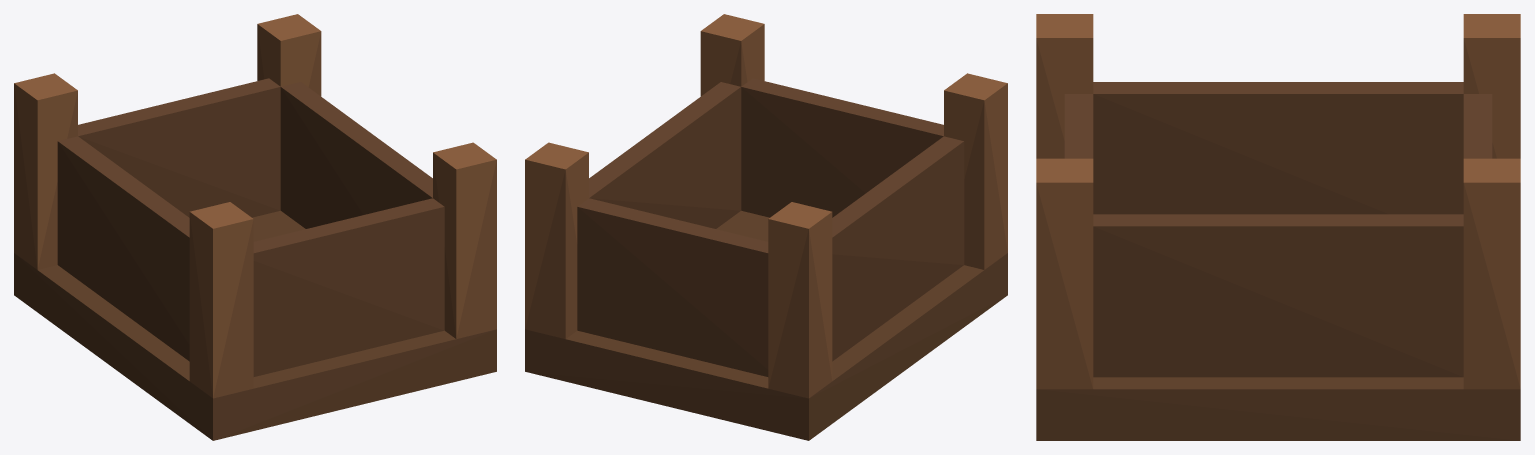
File: kenney_pirate_crate.glb
3 views of the same model, side by side, from view 1: azimuth 30°, elevation 25°; view 2: azimuth 150°, elevation 25°; view 3: azimuth 270°, elevation 25° (orthographic). The views are drawn at different scales.
Visible parts, largest first — view 1: wood; view 2: wood; view 3: wood.
Part boxes in pixels (x1,y1,x2,y2): wood: (14,14,496,440); wood: (525,14,1007,440); wood: (1036,14,1520,440).
Size of the model in its own units: 1.08 by 0.77 by 1.31.
